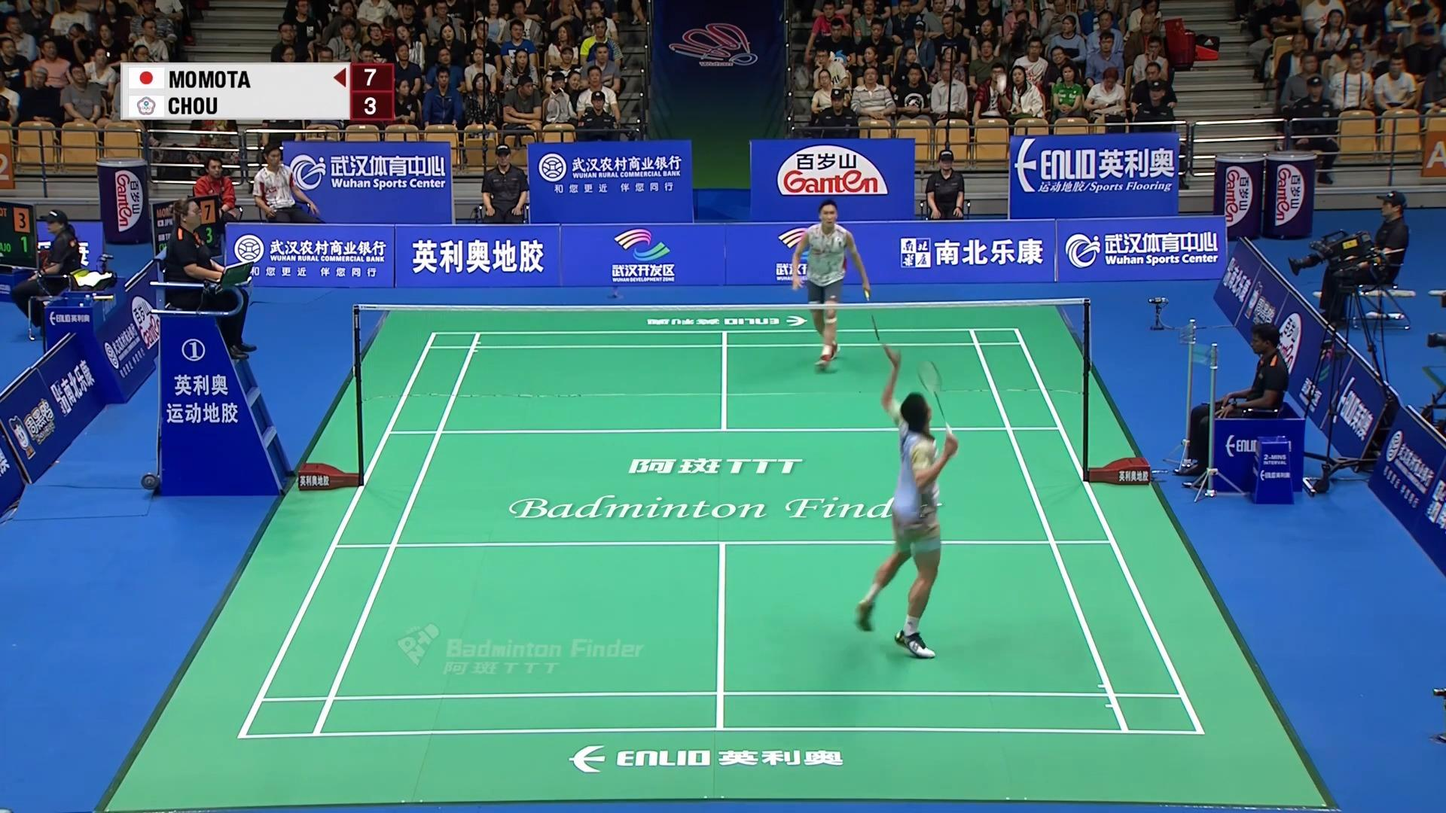player: (856, 344, 959, 659), (791, 199, 871, 371)
